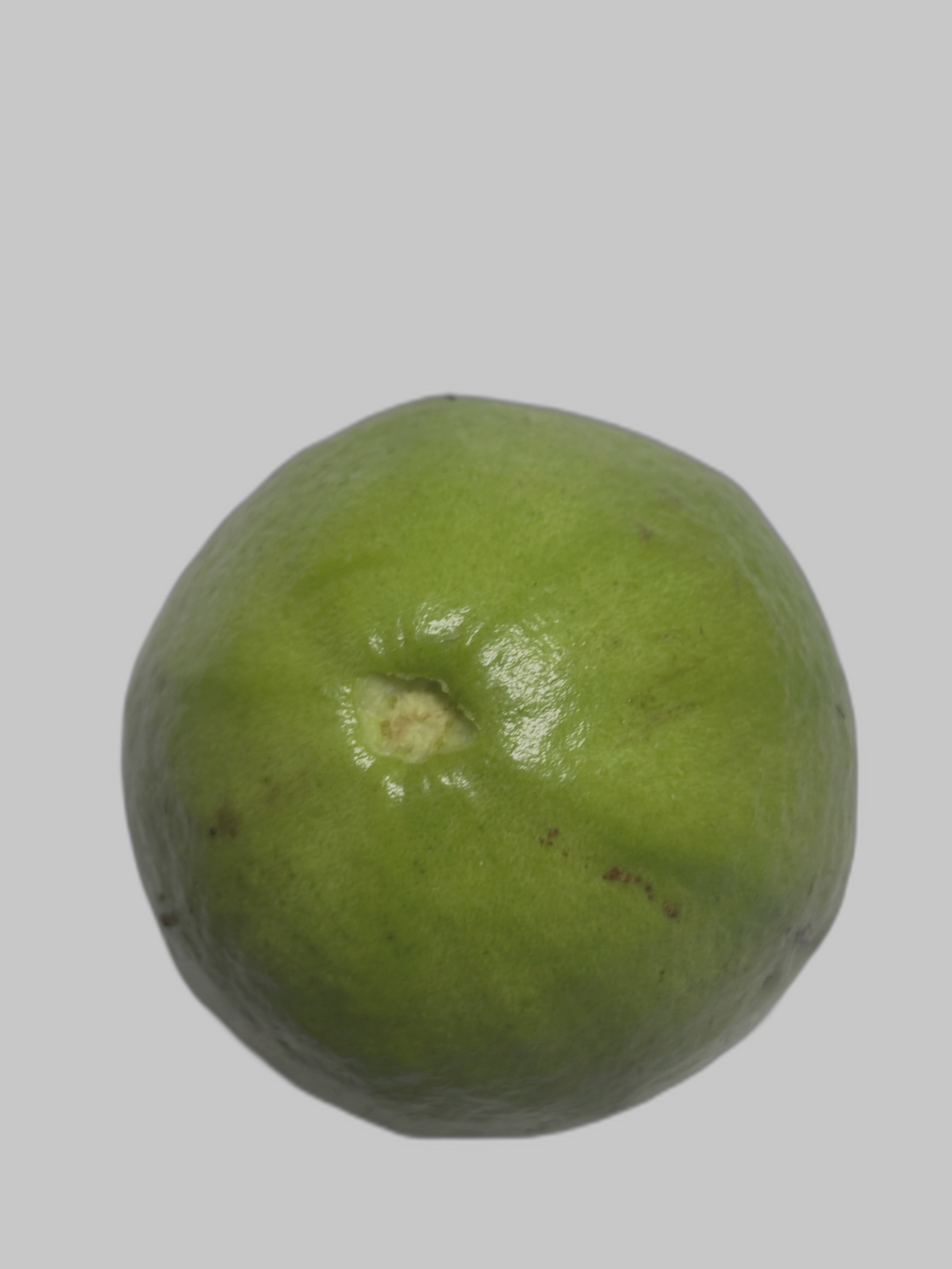guava: (150, 98, 835, 1073)
